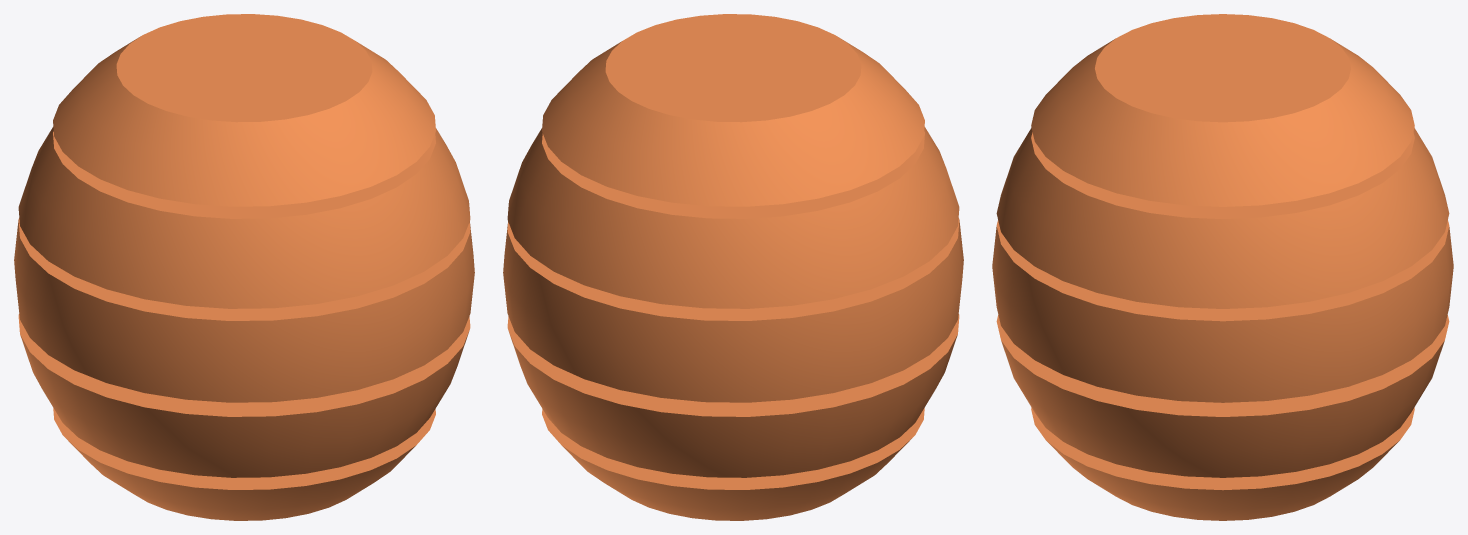
File: OrangeCutted.FBX
3 renders of one model, left to right at view 1: azimuth 30°, elevation 25°; view 2: azimuth 150°, elevation 25°; view 3: azimuth 270°, elevation 25°, orthographic.
Visible parts, largest first — view 1: Slice1, Slice2, Slice3, Slice4, Slice5; view 2: Slice1, Slice2, Slice3, Slice4, Slice5; view 3: Slice1, Slice2, Slice3, Slice4, Slice5.
Boxes of the visible parts, <box> form: Slice1: <box>53,14,435,206</box>; Slice2: <box>18,127,470,308</box>; Slice3: <box>14,218,474,402</box>; Slice4: <box>18,314,470,477</box>; Slice5: <box>53,408,435,520</box>; Slice1: <box>542,14,924,206</box>; Slice2: <box>507,127,959,308</box>; Slice3: <box>503,218,963,402</box>; Slice4: <box>507,314,959,477</box>; Slice5: <box>542,408,924,520</box>; Slice1: <box>1031,14,1414,206</box>; Slice2: <box>996,128,1449,308</box>; Slice3: <box>992,220,1453,402</box>; Slice4: <box>996,315,1449,477</box>; Slice5: <box>1031,407,1414,520</box>.
Size of the model in its own units: 5.7 by 5.43 by 5.7.
